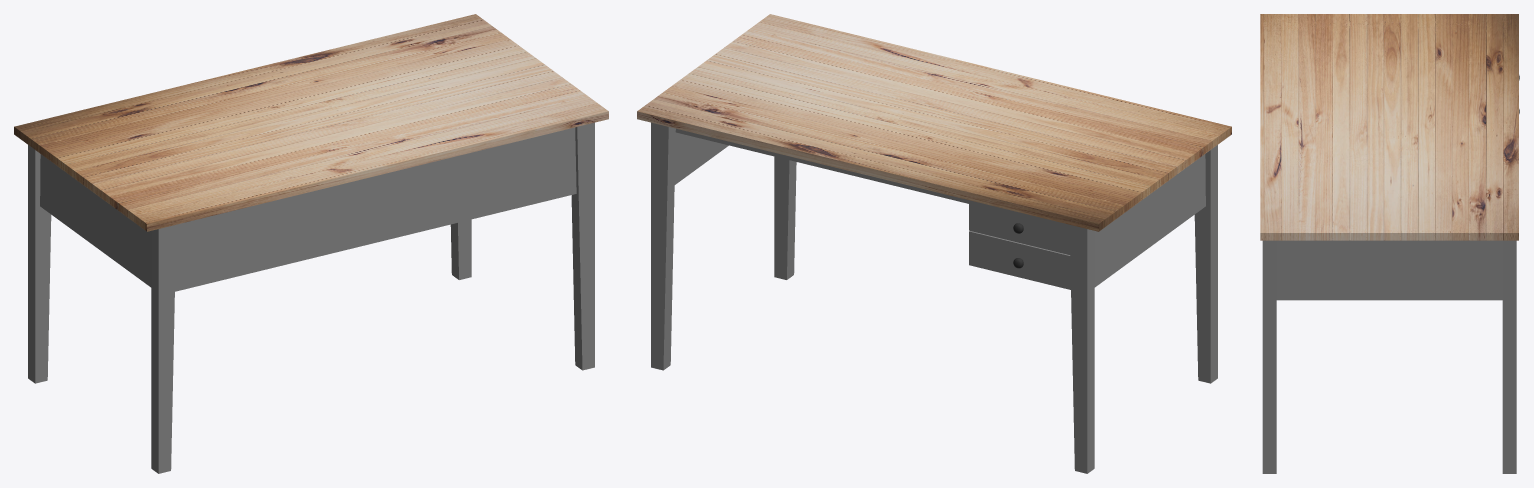
File: regular desk 1 - 29.9Dx59.9Wx31.4H.glb
3 renders of one model, left to right at view 1: azimuth 30°, elevation 25°; view 2: azimuth 150°, elevation 25°; view 3: azimuth 270°, elevation 25°, orthographic. The views are drawn at different scales.
Visible parts, largest first — view 1: Cube; view 2: Cube; view 3: Cube.
Boxes of the visible parts, bbox=[...] form: Cube: bbox=[14, 14, 608, 473]; Cube: bbox=[637, 14, 1231, 473]; Cube: bbox=[1260, 14, 1519, 473].
Bounding box in the file's own units: 59.86 × 31.45 × 29.94.
3 materials, 1 textured.
